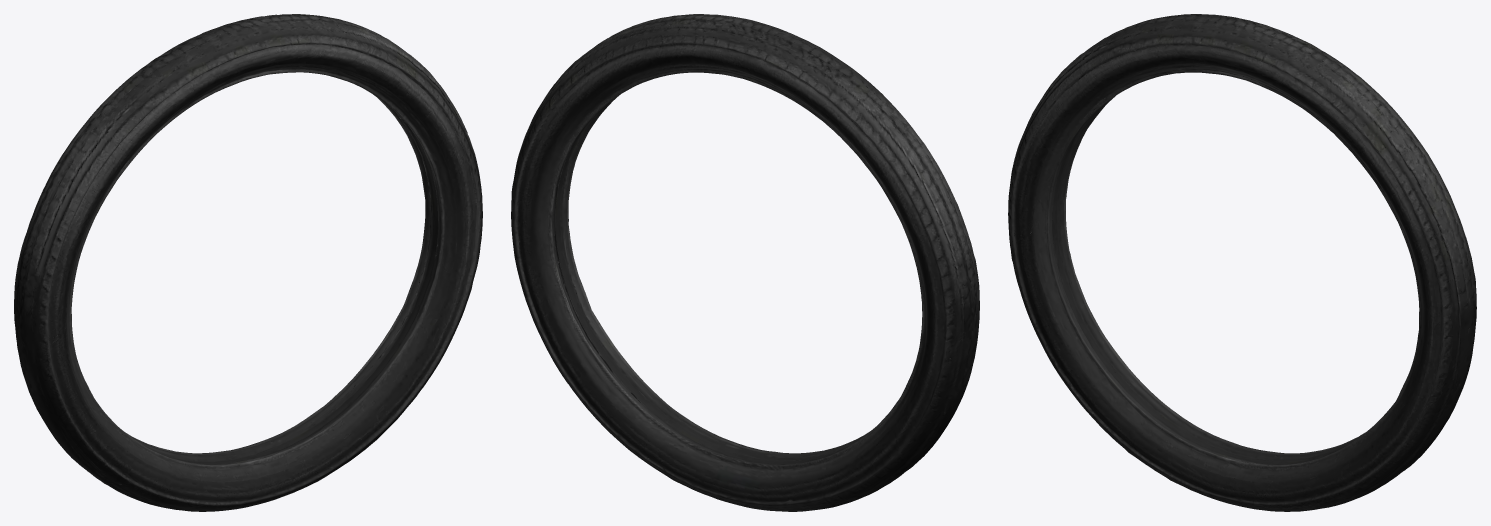
File: tyre.glb
The picture shows the model from 3 angles, left to right: view 1: azimuth 30°, elevation 25°; view 2: azimuth 150°, elevation 25°; view 3: azimuth 330°, elevation 25°; orthographic projection.
Parts seen in each view (by area): view 1: world; view 2: world; view 3: world.
Boxes of the visible parts, <box> form: world: <box>14,14,482,511</box>; world: <box>511,14,979,511</box>; world: <box>1008,14,1476,511</box>.
Bounding box in the file's own units: 1 × 0.9989 × 0.1164.
Materials: 1 (1 with a texture image).
